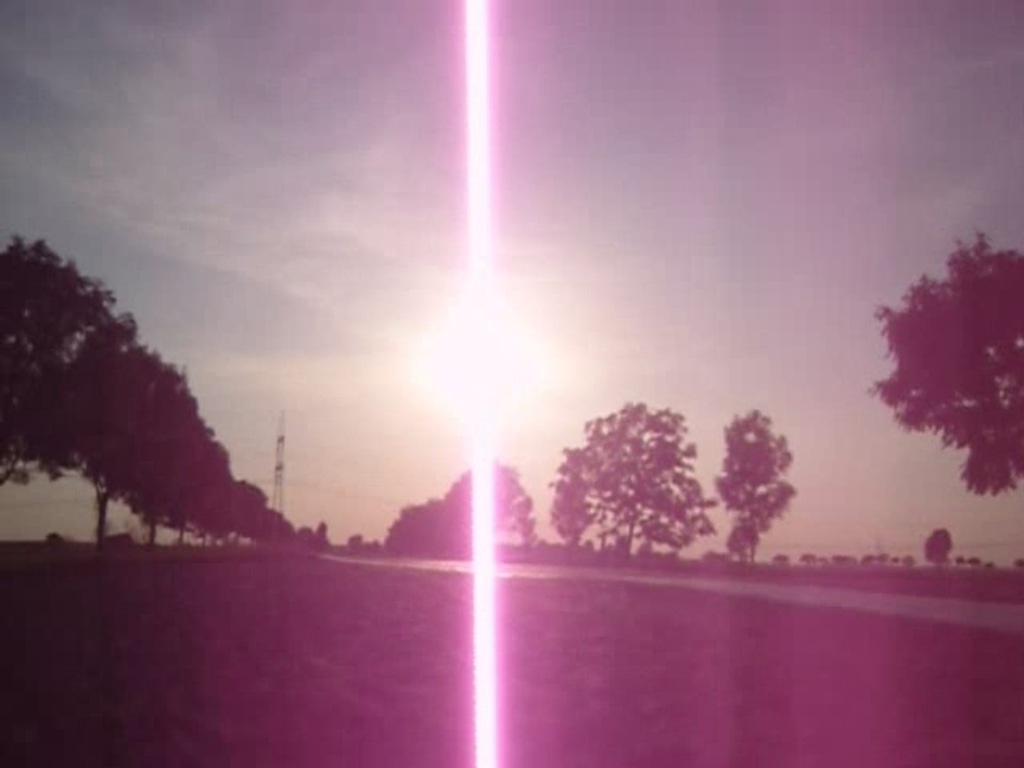Tree: (0, 231, 327, 555), (867, 228, 1024, 499), (546, 395, 724, 565), (375, 459, 540, 557), (712, 407, 797, 563), (923, 522, 959, 569)
